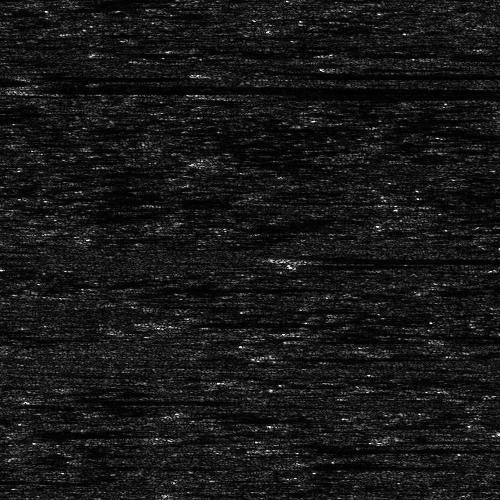object: (236, 247, 361, 264), (193, 68, 318, 77), (246, 348, 309, 365), (187, 90, 280, 97), (0, 82, 48, 93), (326, 62, 379, 71), (159, 317, 190, 328), (50, 394, 81, 403), (305, 50, 358, 55), (18, 73, 49, 78), (105, 285, 146, 288), (261, 446, 272, 451)
shadow: (0, 82, 454, 93), (299, 247, 500, 264), (278, 348, 435, 365), (175, 317, 379, 328), (256, 68, 479, 77), (234, 90, 500, 97), (65, 394, 209, 403), (267, 446, 500, 451), (353, 62, 468, 71), (34, 73, 189, 78), (126, 285, 328, 288), (332, 50, 446, 55)
